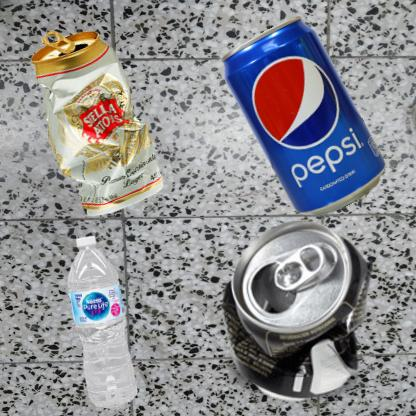botella: (10, 213, 199, 416)
lata: (213, 10, 416, 293), (10, 10, 206, 275), (213, 213, 382, 412)
